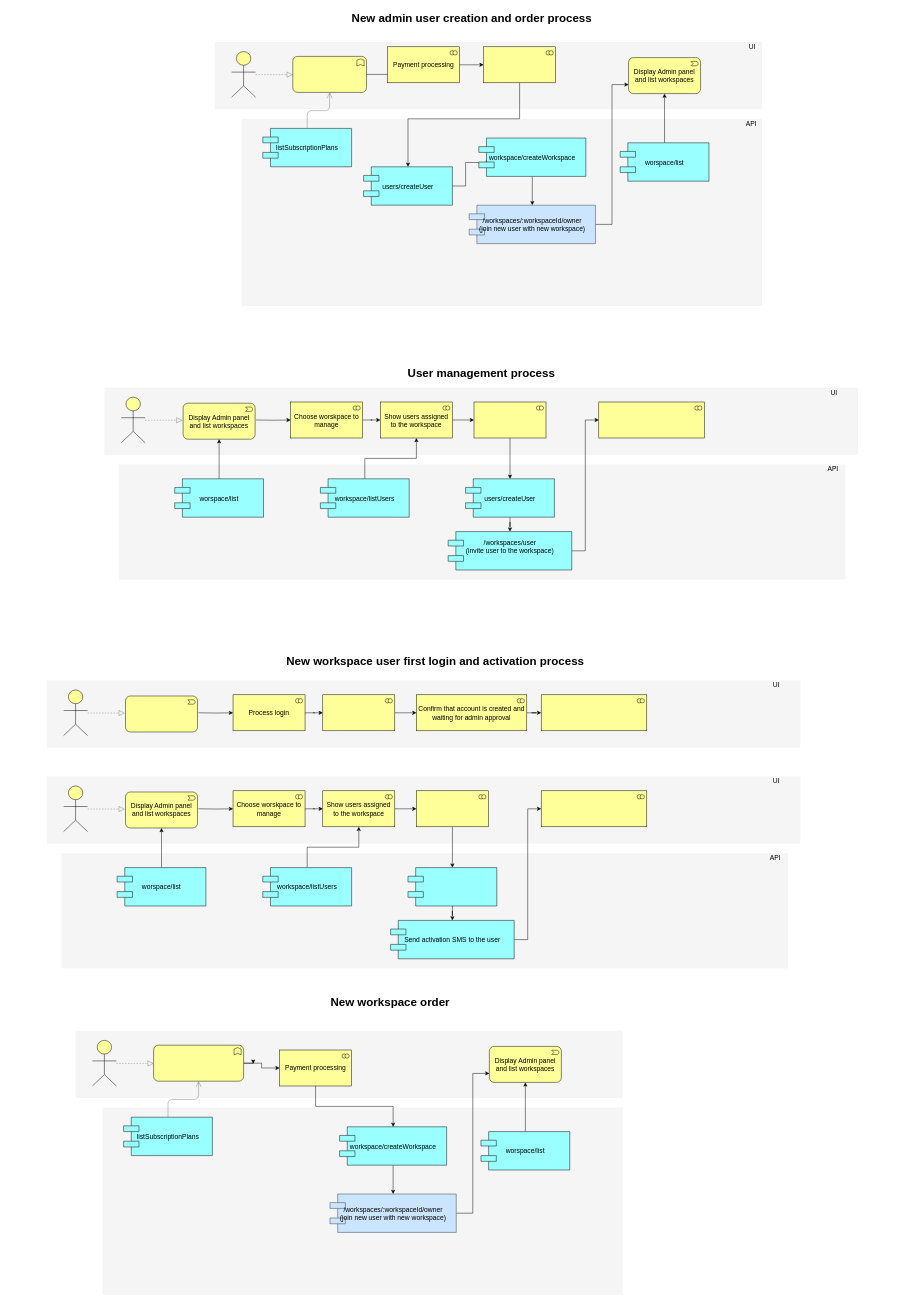
Image size: 900x1303. Some labels were removed from this diagram. Here are the shapes that lost their labels. From the top down, the box of each, then its label:
(292, 56, 366, 92): Choose workspace subscribtion plan
(483, 46, 556, 83): Create Admin user account
(474, 402, 546, 438): Invite user to the worskspace
(598, 402, 704, 438): Confirm message (Inform about activation process)
(125, 696, 198, 732): SMS Invite to join the workspace
(322, 694, 395, 731): Trigger password change (TBC)
(541, 694, 647, 731): Notification about approval request sent to the workspace admin
(416, 790, 488, 827): Choose user to manage and "Activate" button
(541, 790, 647, 827): Confirm activation process
(408, 867, 497, 906): users/activateUser
(153, 1045, 244, 1081): Choose ADD NEW WORKSPACE
